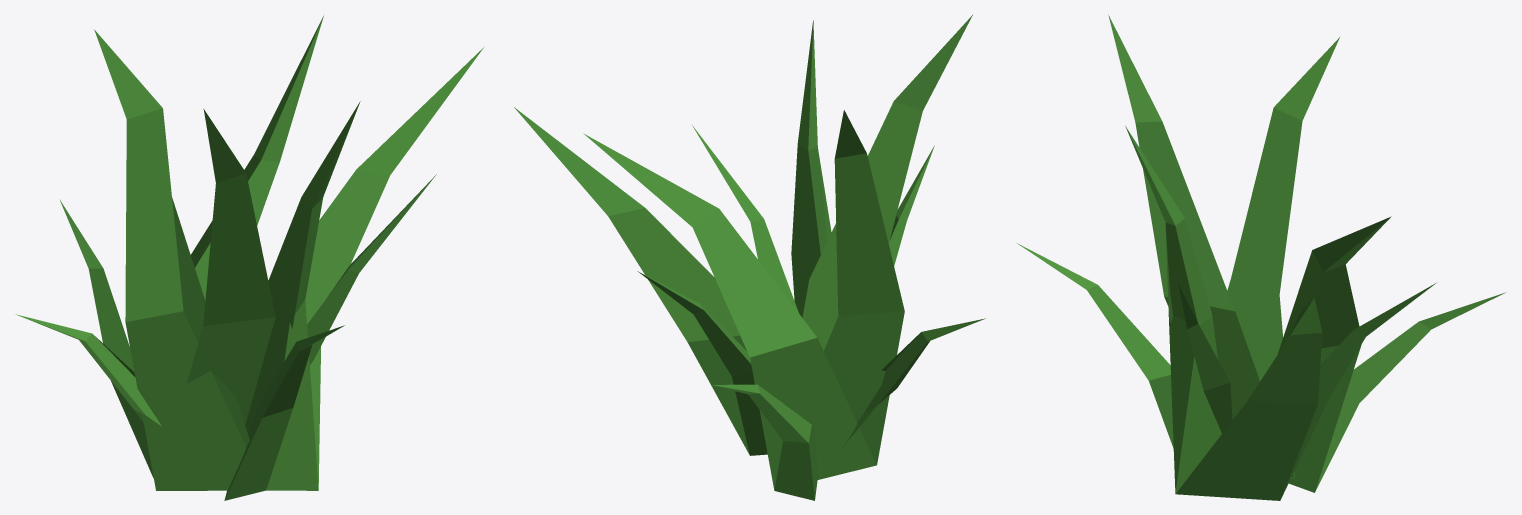
Rendered from PatchOfGrass2.fbx.
3 views of the same model, side by side, from view 1: azimuth 30°, elevation 25°; view 2: azimuth 150°, elevation 25°; view 3: azimuth 270°, elevation 25° (orthographic). The views are drawn at different scales.
Visible parts, largest first — view 1: Cone.002; view 2: Cone.002; view 3: Cone.002.
Part boxes in pixels (x1,y1,x2,y2): Cone.002: (16, 15, 483, 500); Cone.002: (514, 15, 985, 500); Cone.002: (1017, 15, 1506, 500).
Bounding box in the file's own units: 8.9 × 8.02 × 8.3.
